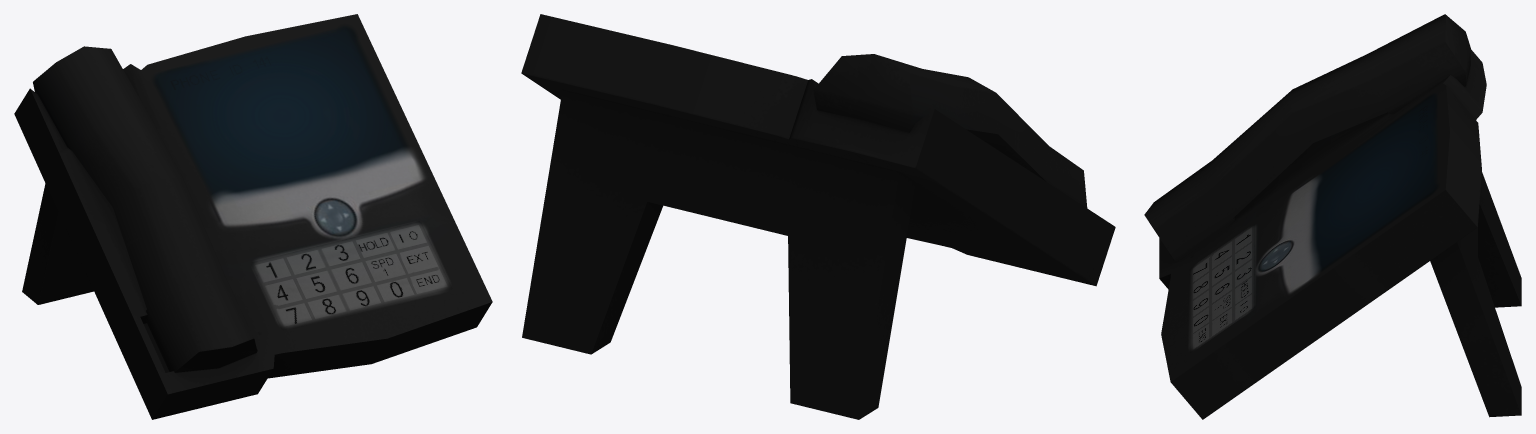
The model's file is OfficePhone.fbx.
The picture shows the model from 3 angles, left to right: view 1: azimuth 30°, elevation 25°; view 2: azimuth 150°, elevation 25°; view 3: azimuth 270°, elevation 25°; orthographic projection. The views are drawn at different scales.
Parts seen in each view (by area): view 1: phone; view 2: phone; view 3: phone.
Part boxes in pixels (box(x1,y1,x2,y2)): phone: box(14, 14, 492, 419); phone: box(521, 14, 1115, 419); phone: box(1144, 14, 1521, 419).
Bounding box in the file's own units: 0.2155 × 0.1672 × 0.2094.
